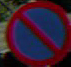No waiting: (8, 5, 67, 61)
